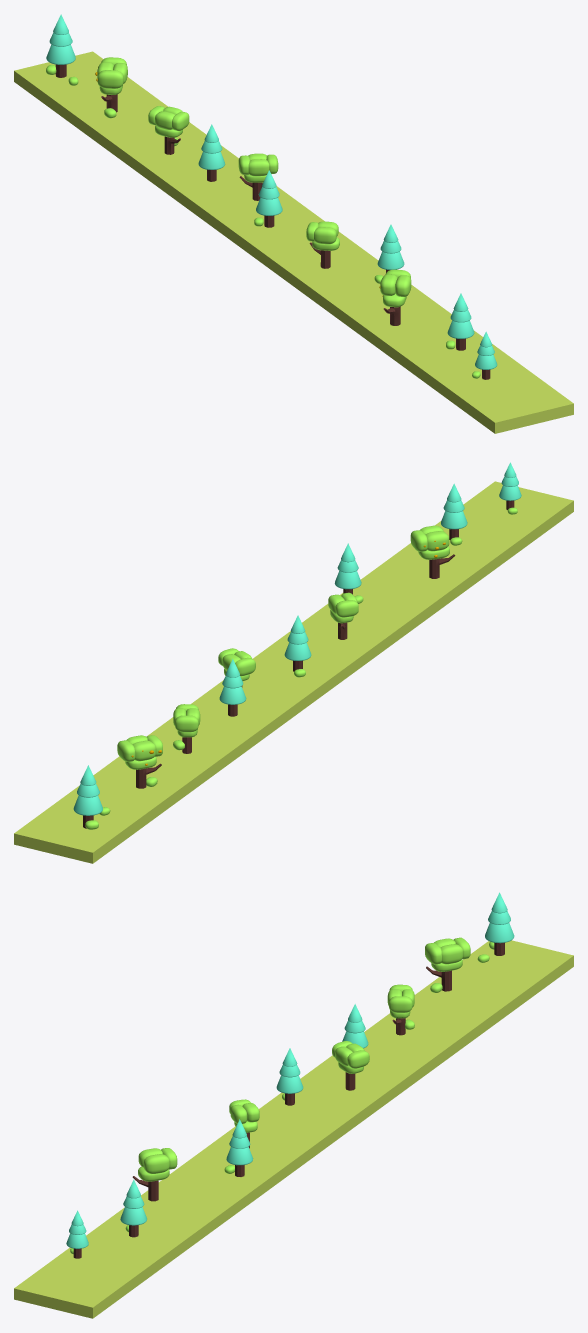
Rendered from TREE2.fbx.
The picture shows the model from 3 angles, top to bottom: view 1: azimuth 30°, elevation 25°; view 2: azimuth 150°, elevation 25°; view 3: azimuth 330°, elevation 25°; orthographic projection.
Visible parts, largest first — view 1: Plane; view 2: Plane; view 3: Plane.
Boxes of the visible parts, box(x1,y1,x2,y2) form: Plane: box(14, 51, 573, 433); Plane: box(14, 481, 573, 863); Plane: box(14, 940, 573, 1318).
Bounding box in the file's own units: 1878 × 1754 × 19833.
